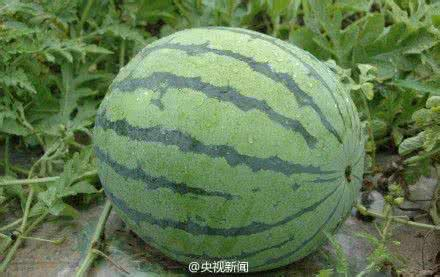watermelon: (91, 25, 362, 267)
